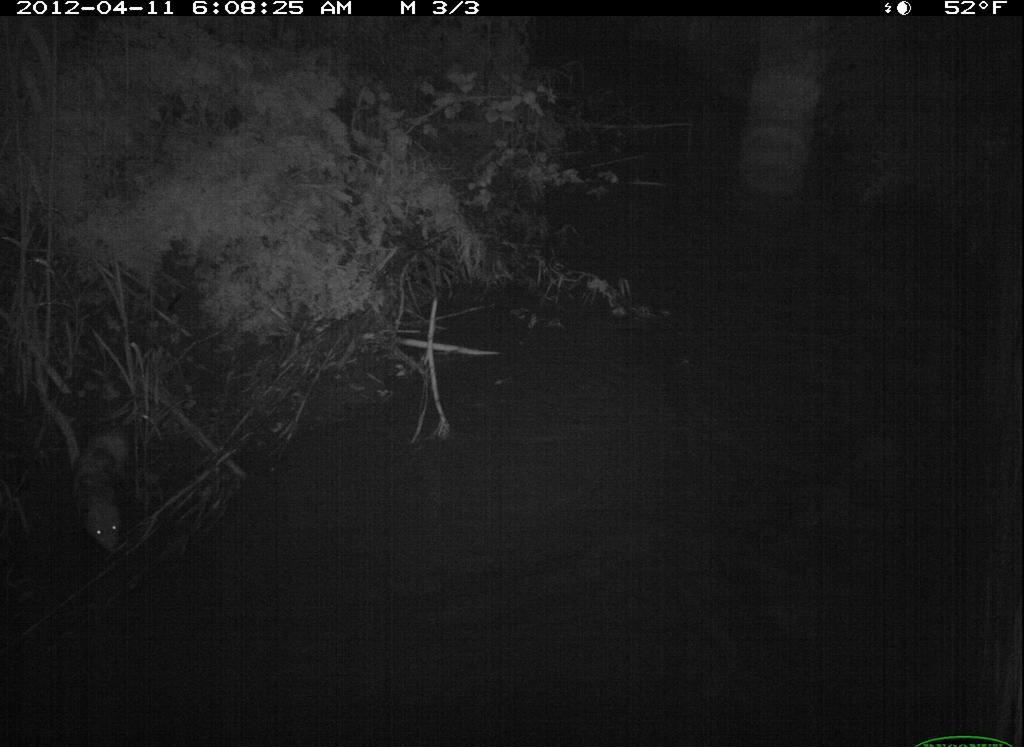opossum: (63, 393, 158, 588)
